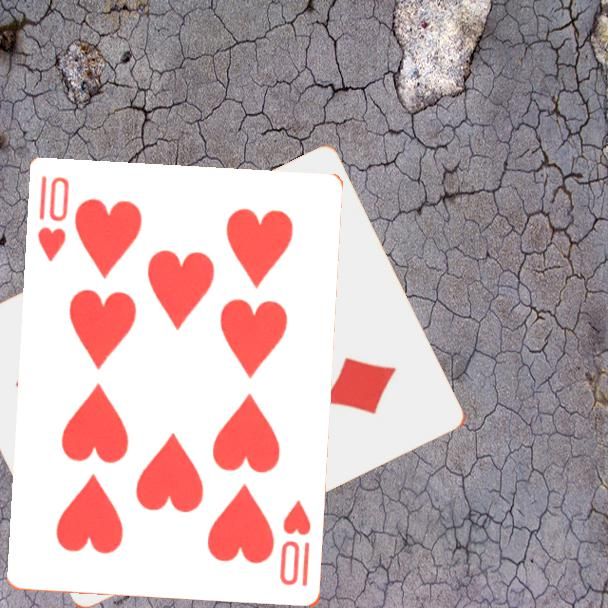h10: (34, 173, 73, 265), (276, 497, 314, 590)
